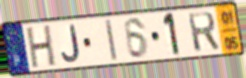1: (162, 11, 182, 58)
6: (123, 17, 151, 60)
H: (26, 23, 58, 71)
I: (104, 17, 119, 63)
J: (60, 24, 82, 64)
R: (186, 10, 222, 54)
